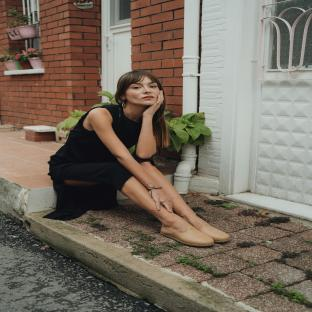Human: (43, 70, 230, 247)
